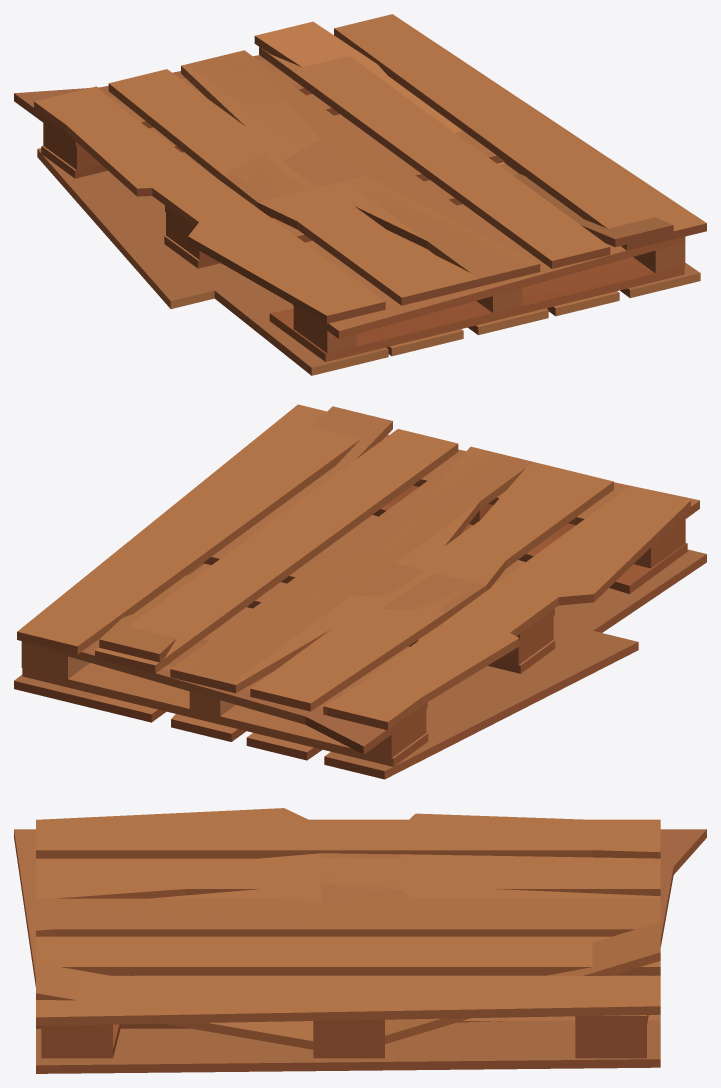
Rendered from Pallet1.fbx.
3 renders of one model, top to bottom at view 1: azimuth 30°, elevation 25°; view 2: azimuth 150°, elevation 25°; view 3: azimuth 270°, elevation 25°, orthographic. The views are drawn at different scales.
Parts seen in each view (by area): view 1: Pallet1.1, Pallet1.2, Pallet1.4; view 2: Pallet1.1, Pallet1.2, Pallet1.4; view 3: Pallet1.1, Pallet1.2, Pallet1.4.
Boxes of the visible parts, x1,y1,x2,y2 form: Pallet1.1: (34,14,688,371); Pallet1.2: (26,14,706,375); Pallet1.4: (14,21,697,336); Pallet1.1: (14,410,690,779); Pallet1.2: (15,404,706,770); Pallet1.4: (27,406,663,779); Pallet1.1: (36,819,660,1059); Pallet1.2: (14,808,680,1073); Pallet1.4: (36,829,706,1065).
Size of the model in its own units: 171 by 25.65 by 222.
